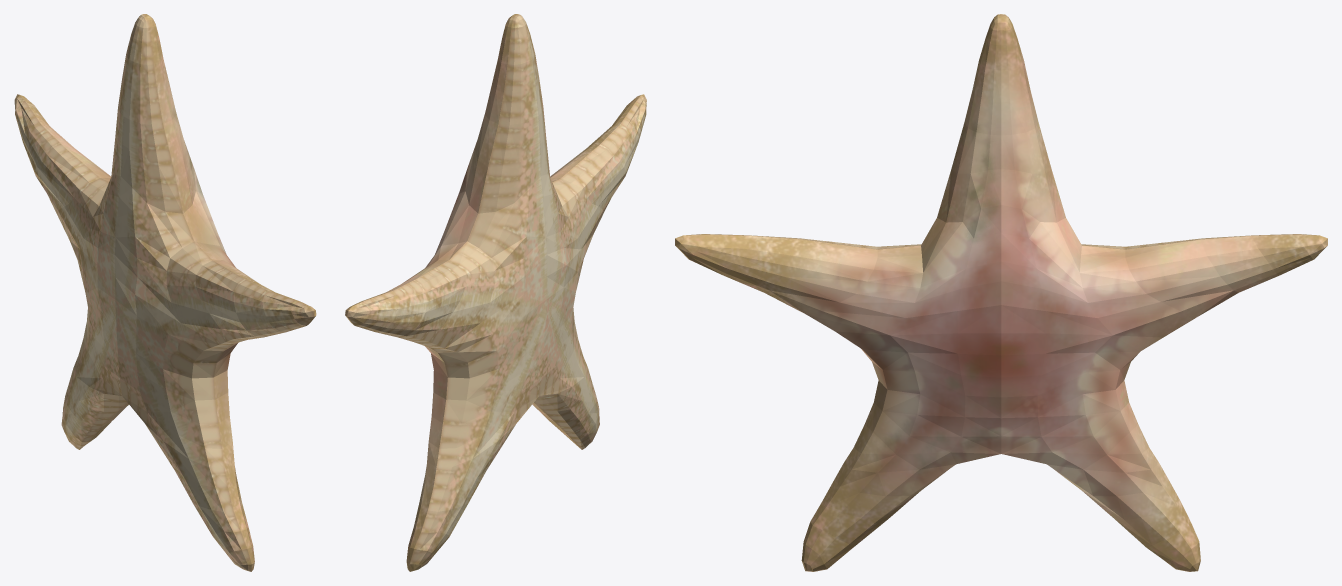
Rendered from zvezda.obj.
3 views of the same model, side by side, from view 1: azimuth 30°, elevation 25°; view 2: azimuth 150°, elevation 25°; view 3: azimuth 270°, elevation 25° (orthographic). The views are drawn at different scales.
Visible parts, largest first — view 1: Object_TexMap_0; view 2: Object_TexMap_0; view 3: Object_TexMap_0.
Boxes of the visible parts, bbox=[...] form: Object_TexMap_0: bbox=[14, 14, 316, 571]; Object_TexMap_0: bbox=[345, 14, 646, 571]; Object_TexMap_0: bbox=[675, 14, 1327, 571].
Size of the model in its own units: 0.4563 by 2.32 by 2.5.
1 material, 1 textured.
